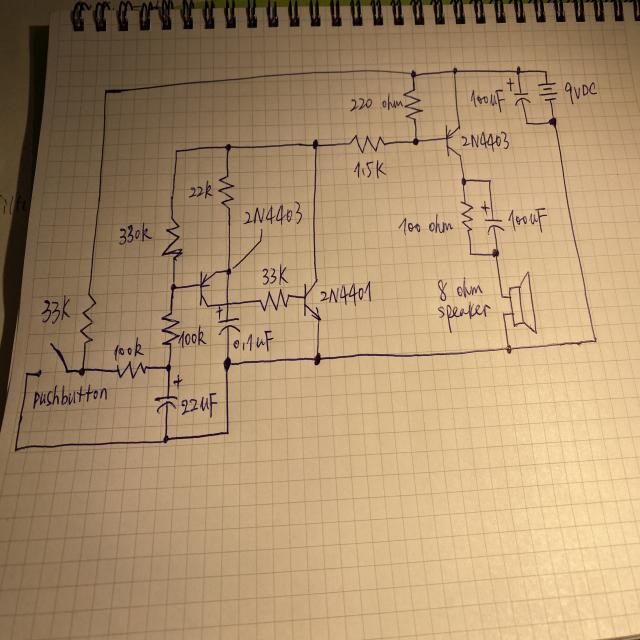capacitor: (153, 374, 183, 416), (481, 199, 506, 236), (214, 306, 241, 336), (505, 76, 532, 106)
crossover: (224, 300, 232, 308)
junction: (222, 356, 232, 372), (312, 352, 322, 367), (160, 432, 170, 446), (77, 365, 87, 377), (408, 68, 418, 80), (490, 248, 500, 259), (548, 116, 558, 127), (168, 281, 178, 292), (164, 362, 173, 374), (311, 138, 320, 150), (504, 343, 513, 355), (411, 136, 420, 148), (224, 142, 232, 154), (460, 176, 468, 186), (23, 369, 31, 379), (172, 147, 180, 156), (514, 66, 522, 75), (224, 427, 231, 437), (500, 310, 507, 320), (225, 267, 232, 276), (102, 87, 109, 96), (13, 444, 19, 454), (452, 65, 458, 75), (592, 336, 598, 345), (499, 292, 505, 300), (542, 68, 548, 75), (468, 250, 473, 258), (487, 177, 492, 184), (524, 120, 529, 126)
resistor: (159, 215, 184, 262), (79, 292, 97, 346), (348, 131, 386, 155), (159, 309, 181, 348), (258, 288, 290, 312), (402, 87, 423, 123), (114, 359, 149, 380), (217, 173, 236, 211), (460, 200, 474, 233)
source: (537, 80, 559, 103)
switch: (35, 342, 69, 378)
text: (30, 384, 109, 408), (436, 302, 490, 333), (243, 203, 304, 227), (320, 281, 372, 306), (396, 214, 454, 236), (461, 130, 511, 153), (507, 206, 548, 233), (438, 276, 482, 301), (349, 92, 404, 112), (40, 294, 73, 326), (468, 87, 506, 114), (179, 392, 217, 418), (233, 330, 274, 354), (117, 221, 153, 246), (564, 80, 598, 105), (353, 158, 387, 181), (176, 324, 206, 348), (113, 338, 144, 360), (261, 262, 289, 286), (188, 178, 214, 200)
transistor: (302, 276, 323, 322), (444, 122, 463, 159), (196, 270, 213, 308)
